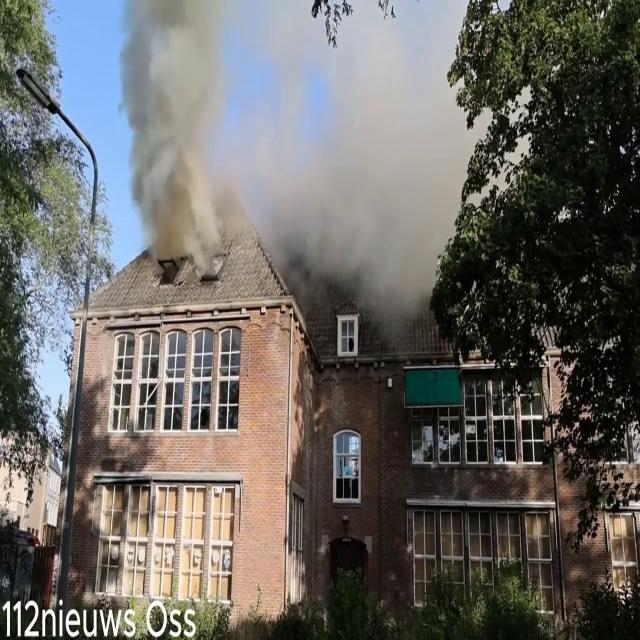Smoke: (257, 3, 469, 312), (112, 0, 253, 276)
